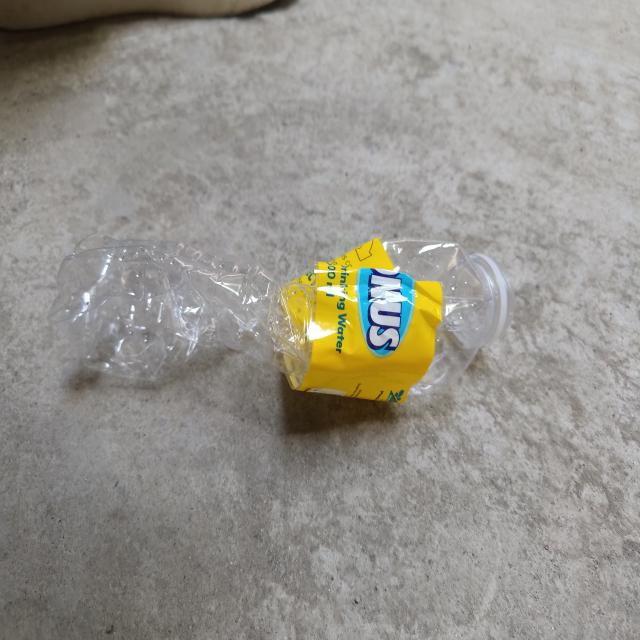Bottle: (49, 235, 514, 403)
